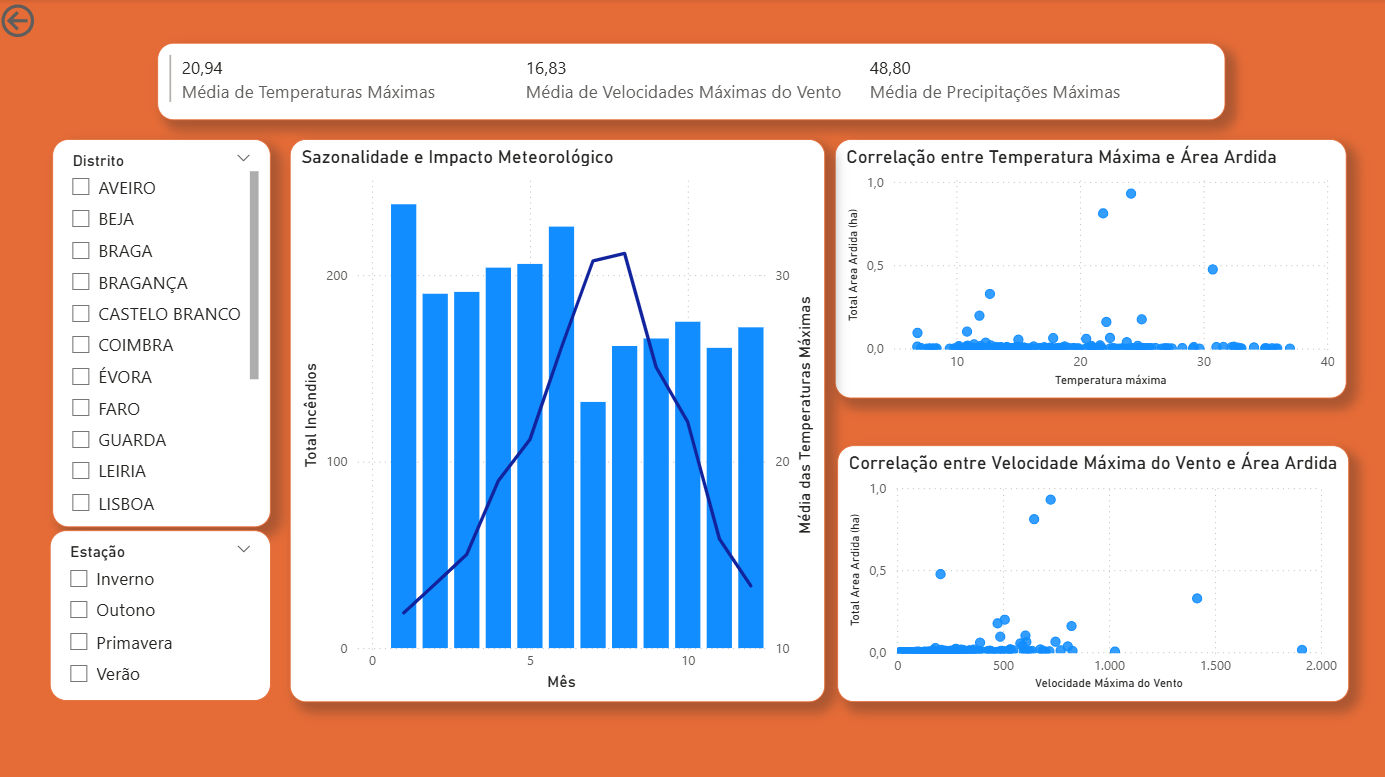

The page's visual inventory and layout, read from the dashboard file:
{"tool":"powerbi","page":{"name":"Temperaturas","canvas":[1280,720],"ordinal":1},"visuals":[{"type":"slicer","fields":{"Values":["dim_location.district"]},"box":[52,128.1,200.7,356.6],"z":0},{"type":"slicer","fields":{"Values":["dim_day.season"]},"box":[49.6,488.4,203.1,157.2],"z":1000},{"type":"scatterChart","title":"Correlação entre Temperatura Máxima e Área Ardida","fields":{"X":["Avg(fact_daily_meteorology.temp_max)"],"Category":["dim_day.day_id"],"Y":["fact_fire.Total Area Ardida (ha)"]},"box":[771.3,128.1,470.3,238.2],"z":2000},{"type":"lineClusteredColumnComboChart","title":"Sazonalidade e Impacto Meteorológico","fields":{"Category":["dim_day.month"],"Y":["fact_fire.Total Incendios"],"Y2":["Avg(fact_daily_meteorology.temp_max)"]},"box":[269.6,128.1,492,517.4],"z":3000},{"type":"multiRowCard","fields":{"Values":["Avg(fact_daily_meteorology.temp_max)","Avg(fact_daily_meteorology.wind_max)","Avg(fact_daily_meteorology.rh_min)"]},"box":[148.7,39.9,981.6,71.3],"z":4000},{"type":"actionButton","box":[0,0,100,40],"z":5000},{"type":"scatterChart","title":"Correlação entre Velocidade Máxima do Vento e Área Ardida","fields":{"Category":["dim_day.day_id"],"Y":["fact_fire.Total Area Ardida (ha)"],"X":["Sum(fact_daily_meteorology.wind_max)"]},"box":[772.5,409.8,470.3,235.7],"z":6000}]}

Visuals, with their boxes in screenshot pixels (x1, y1, x2, y2), scaled from the page's 1280x720 canvas onto the 1385x777 screenshot:
slicer - dim_location.district: [left=56, top=138, right=273, bottom=523]
slicer - dim_day.season: [left=54, top=527, right=273, bottom=697]
"Correlação entre Temperatura Máxima e Área Ardida" scatterChart: [left=835, top=138, right=1343, bottom=395]
"Sazonalidade e Impacto Meteorológico" lineClusteredColumnComboChart: [left=292, top=138, right=824, bottom=697]
multiRowCard - Avg(fact_daily_meteorology.temp_max) x Avg(fact_daily_meteorology.wind_max): [left=161, top=43, right=1223, bottom=120]
actionButton: [left=0, top=0, right=108, bottom=43]
"Correlação entre Velocidade Máxima do Vento e Área Ardida" scatterChart: [left=836, top=442, right=1345, bottom=697]
